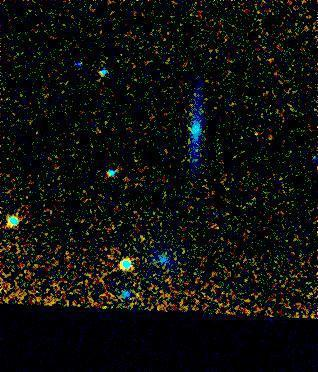star: (127, 223, 157, 253)
